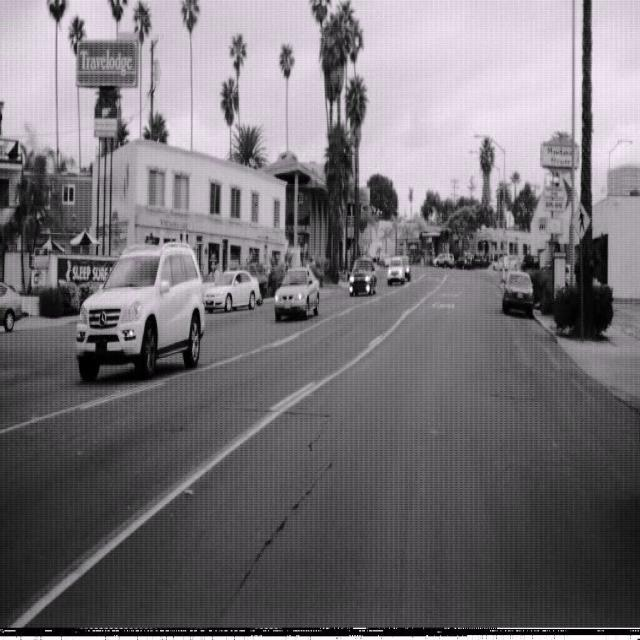pedestrianCrossing: (571, 200, 590, 239)
